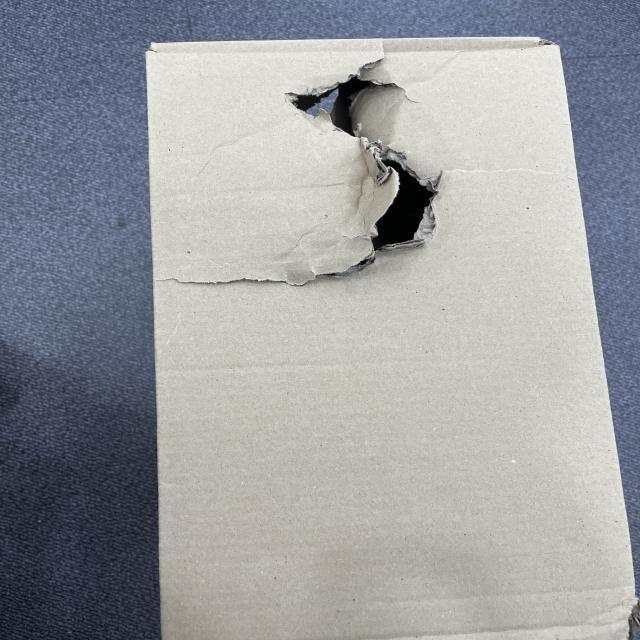hole: (278, 65, 452, 258)
